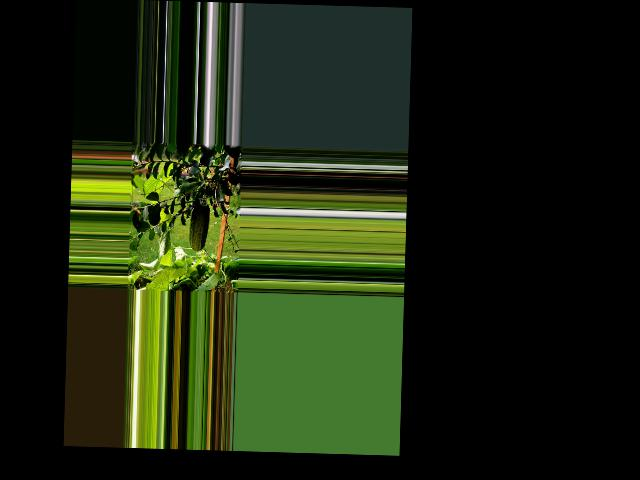cucumber: (189, 198, 210, 251)
